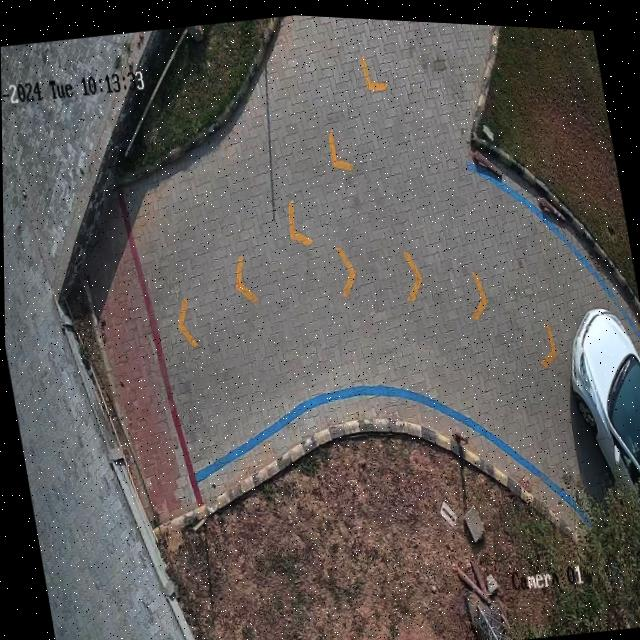car: (569, 301, 640, 477)
